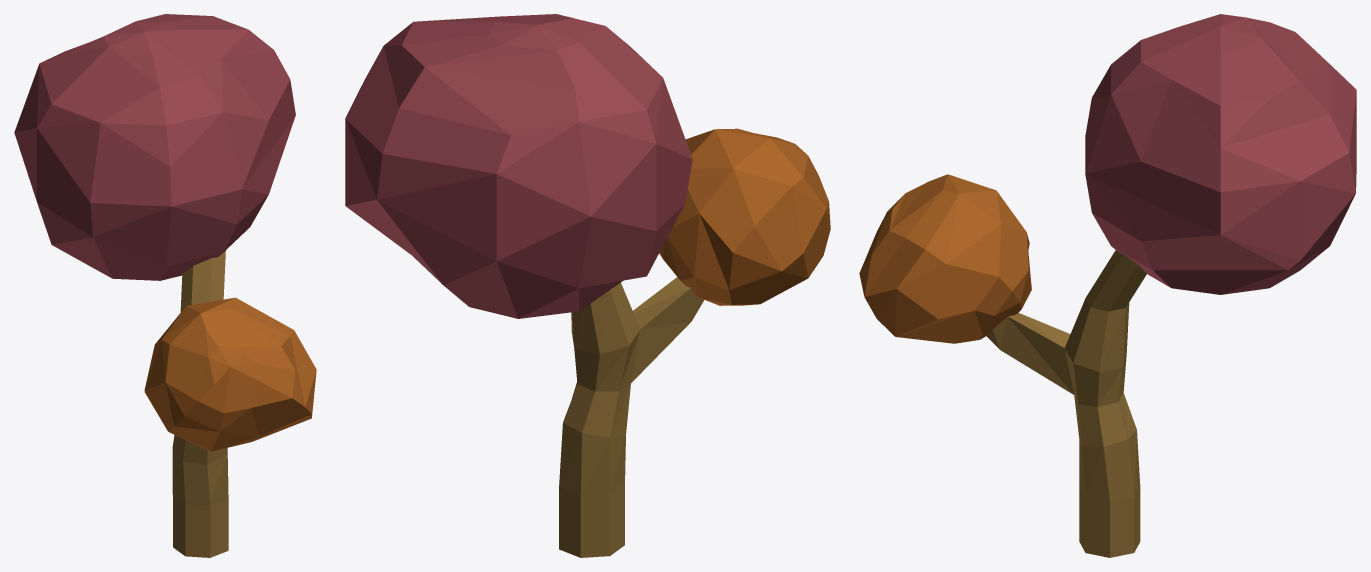
File: autumntree3.fbx
3 views of the same model, side by side, from view 1: azimuth 30°, elevation 25°; view 2: azimuth 150°, elevation 25°; view 3: azimuth 270°, elevation 25° (orthographic). The views are drawn at different scales.
Parts seen in each view (by area): view 1: pSphere1, pSphere2, pCylinder1; view 2: pSphere1, pSphere2, pCylinder1; view 3: pSphere1, pSphere2, pCylinder1.
Boxes of the visible parts, left/top/right/bottom form: pSphere1: left=14, top=14, right=295, bottom=280; pSphere2: left=144, top=297, right=316, bottom=451; pCylinder1: left=172, top=250, right=228, bottom=557; pSphere1: left=345, top=14, right=692, bottom=318; pSphere2: left=659, top=128, right=830, bottom=305; pCylinder1: left=559, top=277, right=703, bottom=557; pSphere1: left=1085, top=14, right=1356, bottom=294; pSphere2: left=859, top=174, right=1031, bottom=343; pCylinder1: left=986, top=250, right=1146, bottom=557.
Size of the model in its own units: 10.55 by 18.24 by 15.95.
